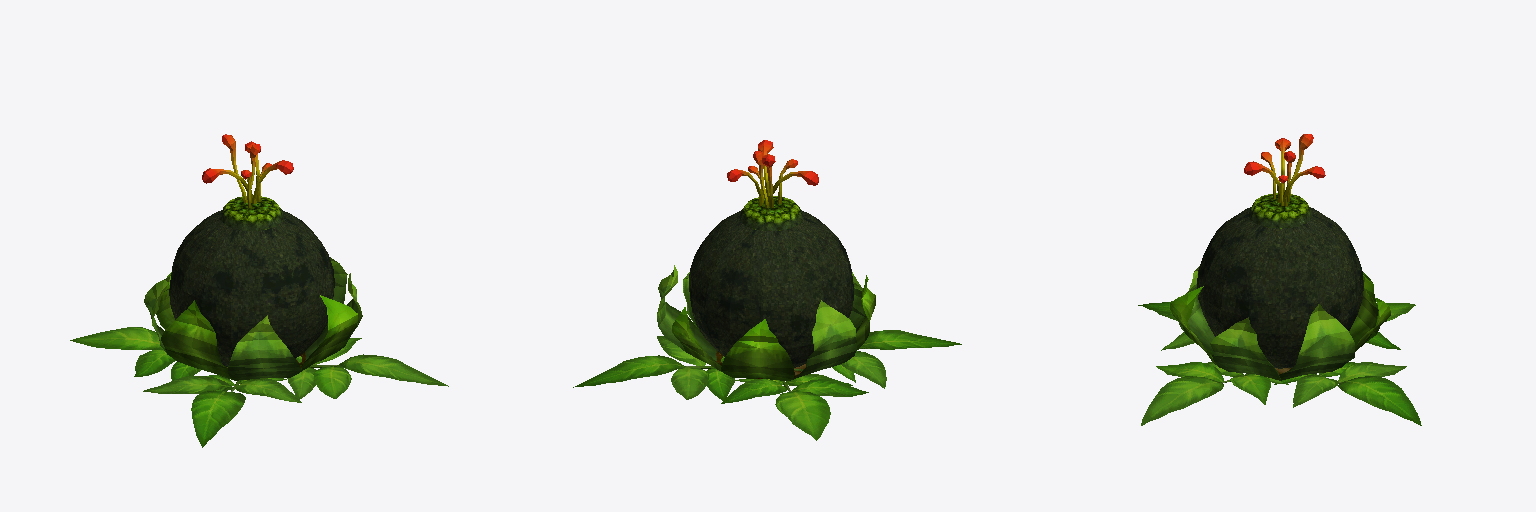
The picture shows the model from 3 angles: view 1: azimuth 30°, elevation 25°; view 2: azimuth 150°, elevation 25°; view 3: azimuth 270°, elevation 25°; orthographic projection.
Visible parts, largest first — view 1: 240; view 2: 240; view 3: 240.
Boxes of the visible parts, box(x1,y1,x2,y2) form: 240: box(70, 134, 448, 447); 240: box(573, 140, 961, 440); 240: box(1138, 134, 1421, 425).
Bounding box in the file's own units: 0.4621 × 0.4073 × 0.4575.
Materials: 1 (1 with a texture image).